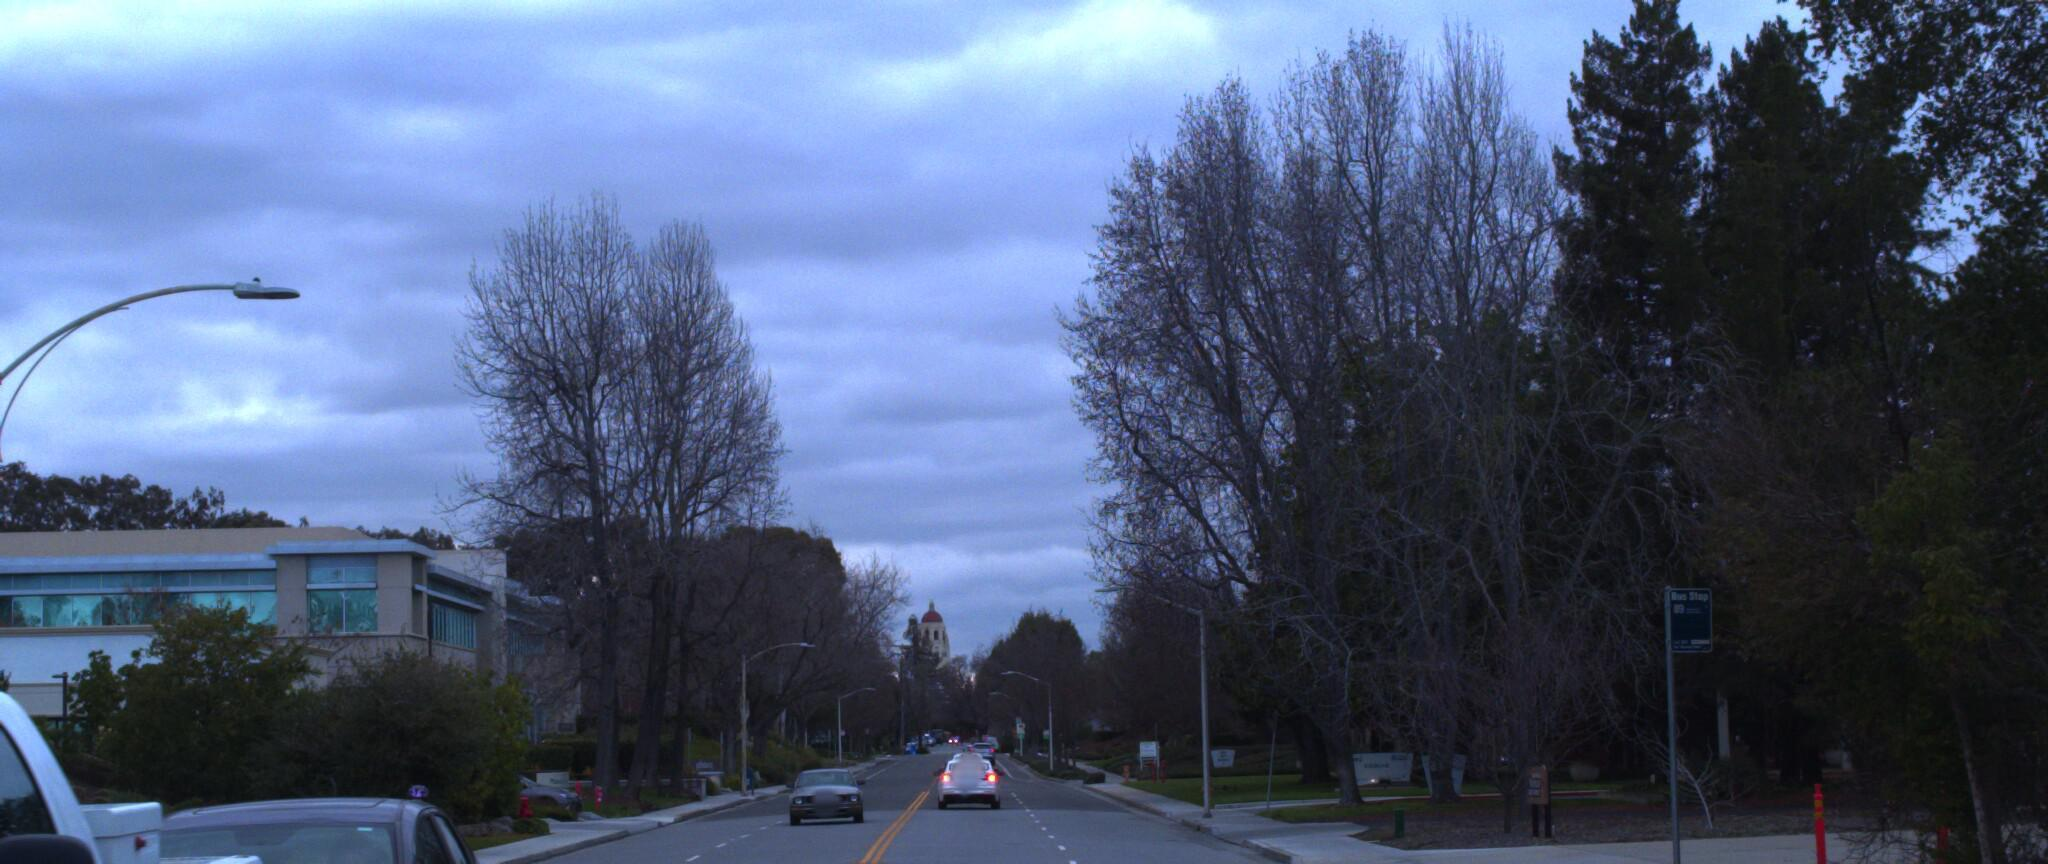bicycle: (345, 779, 447, 864)
car: (0, 636, 336, 864), (0, 787, 532, 864)
